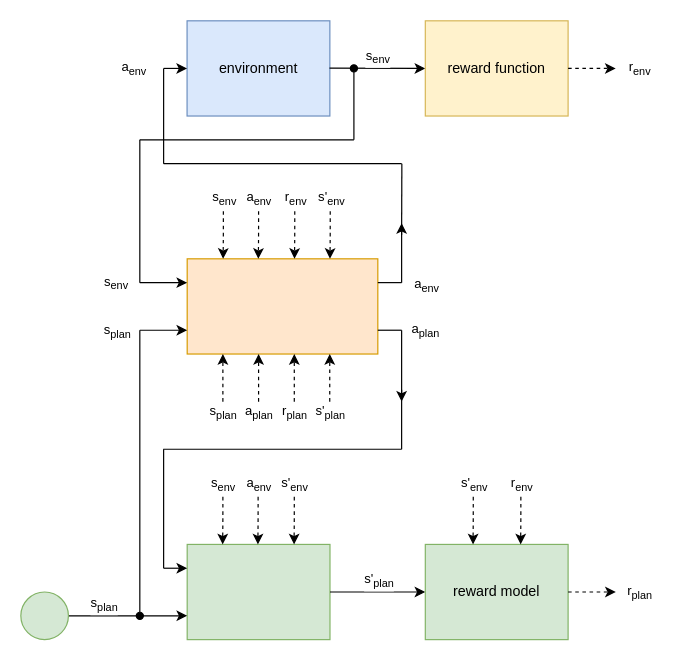
Some shapes in this 674 by 660 pixel diagram are drawn without their labels. Here are the shapes that lost their labels. From the top down, the centre of each, then its label:
At point 282,306: "policy".
At point 258,591: "state model".
